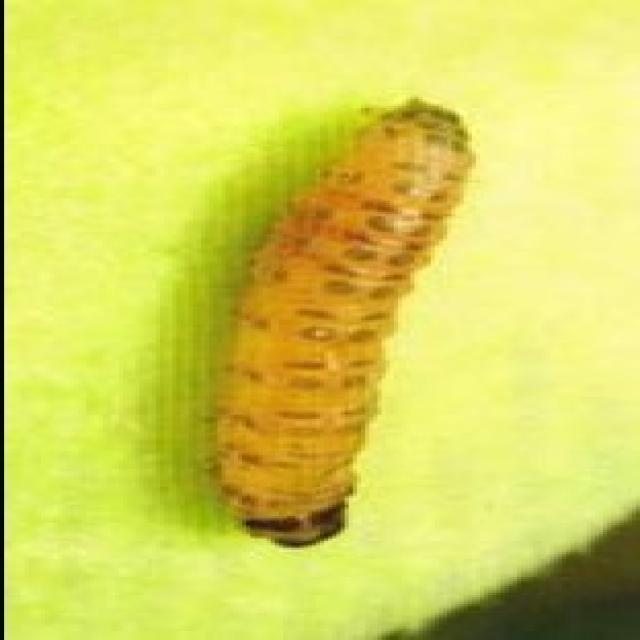peach borer: (202, 92, 489, 550)
